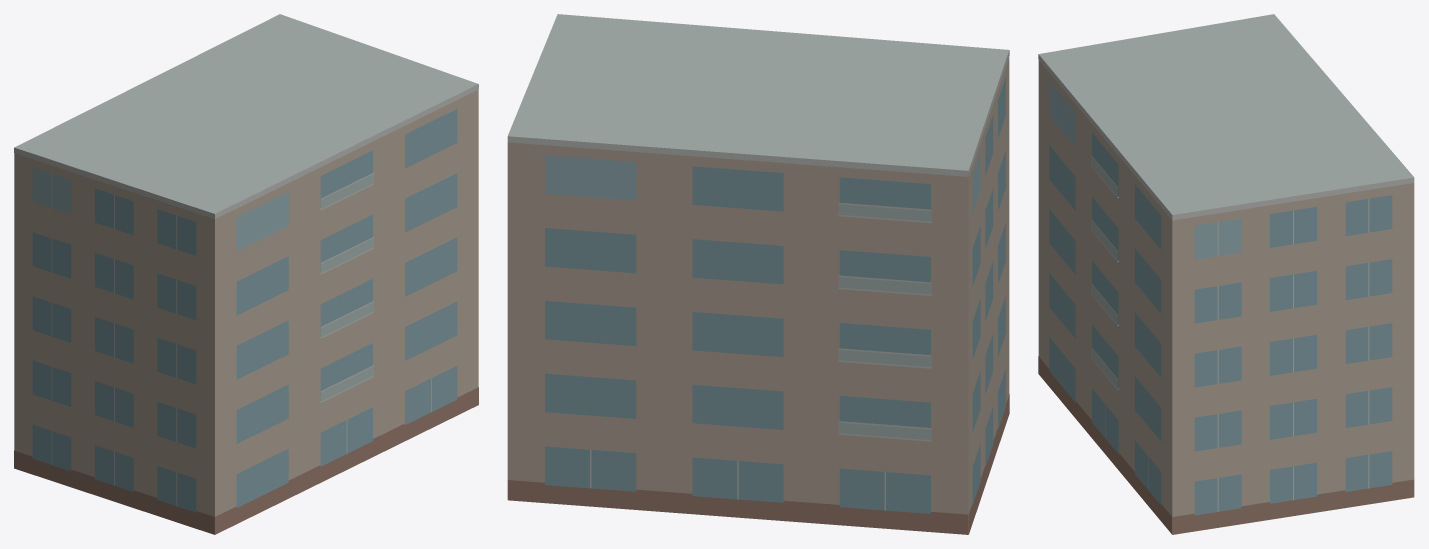
Rendered from survey-upis-32933147.glb.
3 views of the same model, side by side, from view 1: azimuth 30°, elevation 25°; view 2: azimuth 150°, elevation 25°; view 3: azimuth 270°, elevation 25° (orthographic). The views are drawn at different scales.
Visible parts, largest first — view 1: survey-upis-32933147.tmp; view 2: survey-upis-32933147.tmp; view 3: survey-upis-32933147.tmp.
Part boxes in pixels (<box>): survey-upis-32933147.tmp: <box>14,14,478,534</box>; survey-upis-32933147.tmp: <box>507,14,1009,534</box>; survey-upis-32933147.tmp: <box>1038,14,1414,534</box>.
Bounding box in the file's own units: 19.69 × 14.6 × 15.56.
